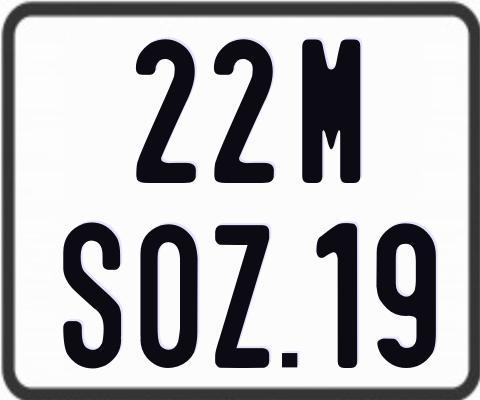0: (140, 222, 200, 369)
1: (316, 220, 359, 369)
2: (211, 37, 274, 181), (136, 36, 197, 181)
9: (374, 221, 434, 367)
M: (301, 39, 365, 187)
S: (63, 221, 122, 371)
Z: (213, 222, 270, 368)
